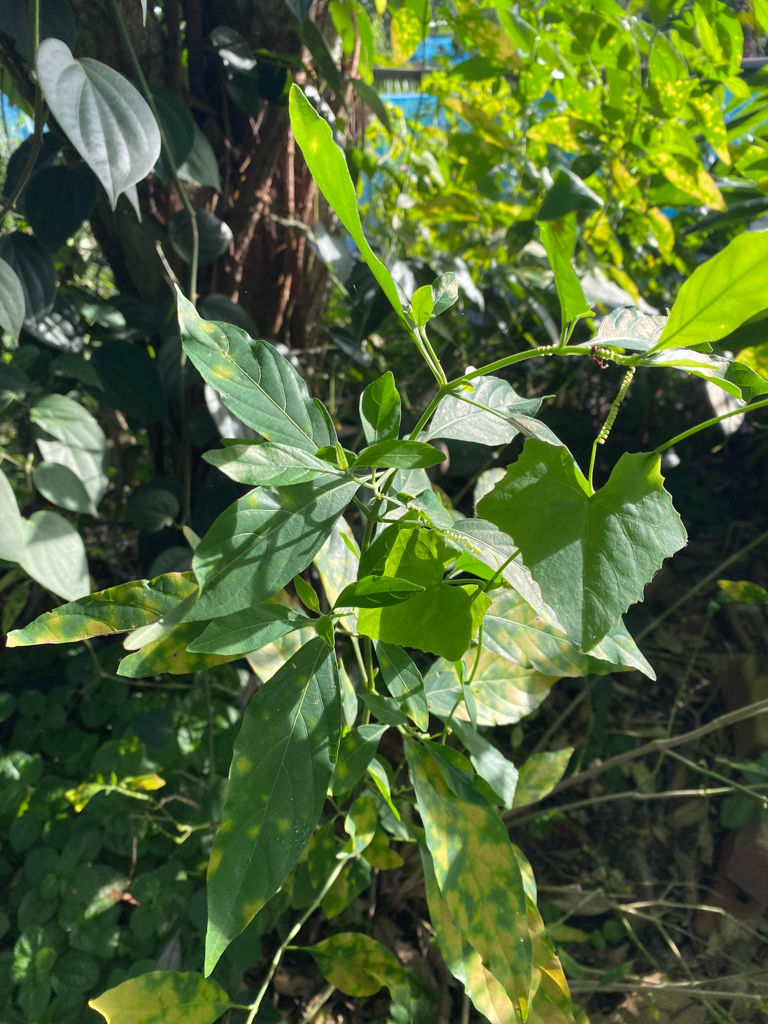Pepper yellow leaf: (396, 739, 544, 1015), (428, 586, 662, 724), (6, 571, 237, 681), (194, 738, 318, 942), (79, 965, 232, 1022), (310, 934, 408, 1000)
